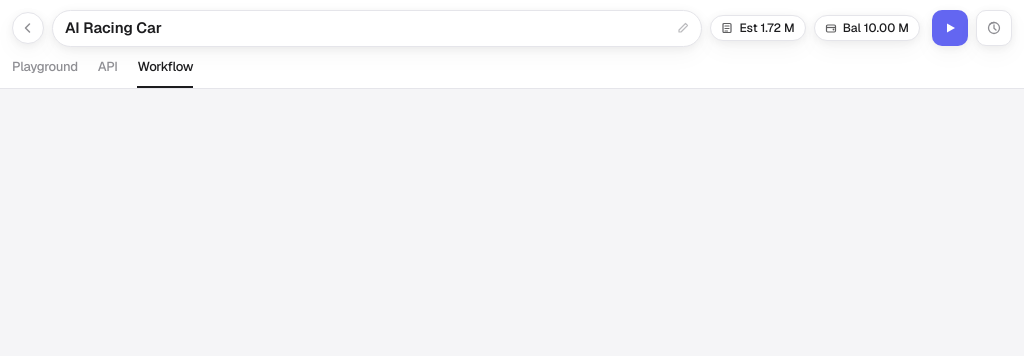
Scenario: Canvas chrome (13C) › refreshes Bal after successful Play (post-reserve)
Check: the element with test id "credits-bal" reads "Bal 10.00 M", box [814,15,920,41]
Click the button with test id "workflow-play". click: (950, 28)
box: [932,10,968,46]
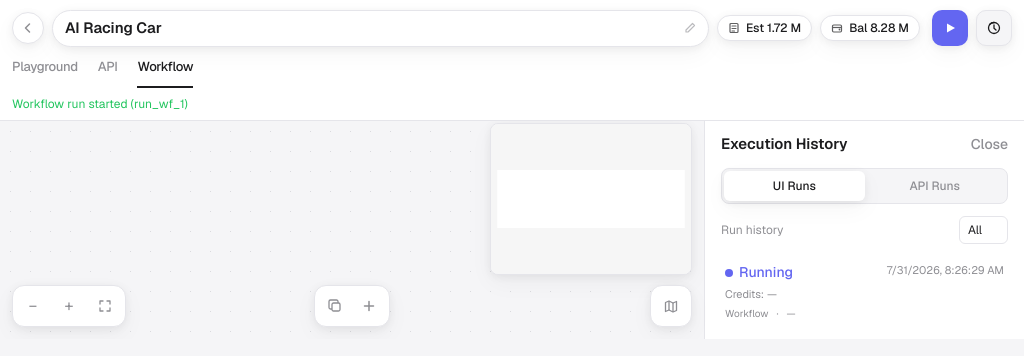
Check: the element with test id "credits-bal" reads "Bal 8.28 M", box [820,15,920,41]
